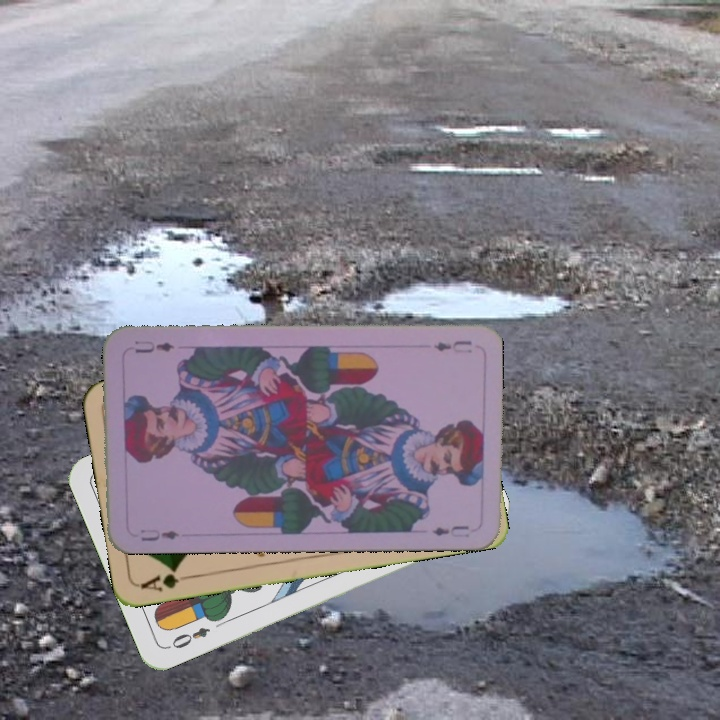EO: (163, 623, 213, 652)
EU: (430, 336, 474, 356), (137, 525, 182, 544)
GA: (137, 564, 196, 595)
